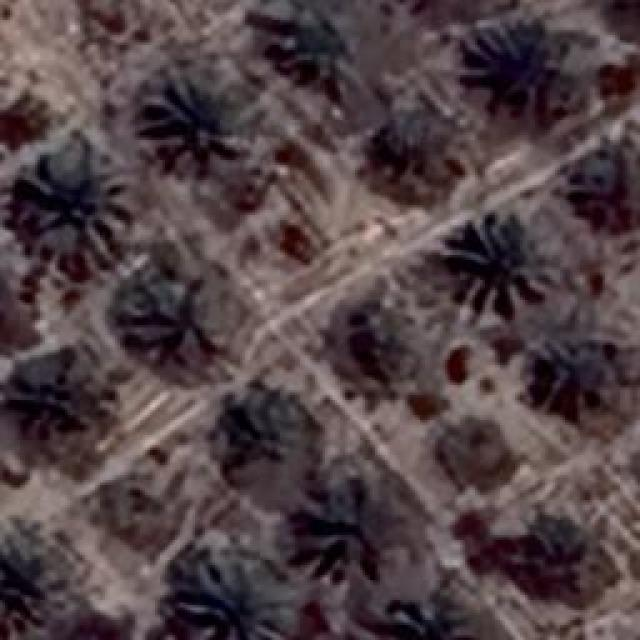PalmTree: (12, 147, 130, 265), (442, 217, 556, 315), (158, 75, 258, 180), (131, 268, 229, 374), (12, 344, 106, 454), (178, 544, 286, 638), (218, 398, 332, 482), (474, 12, 566, 116), (534, 334, 634, 426), (328, 292, 420, 386), (302, 487, 390, 575), (510, 524, 595, 606), (0, 540, 75, 628), (268, 4, 342, 88), (380, 114, 455, 194), (572, 135, 640, 213), (395, 592, 470, 638)
